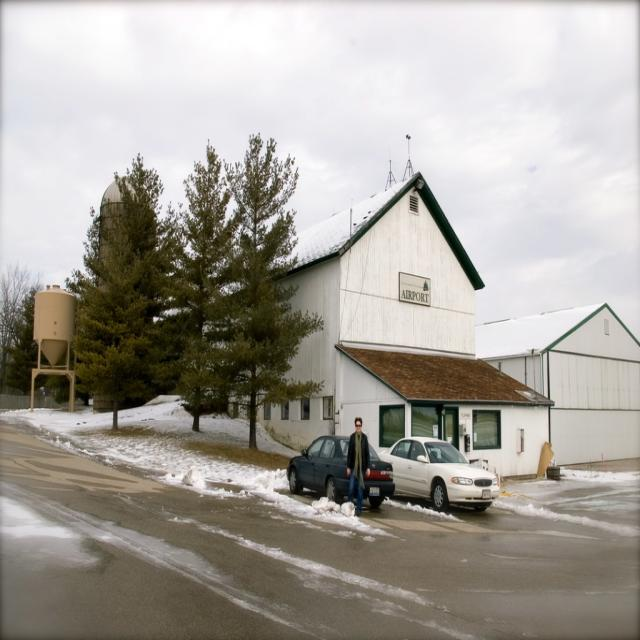car: (376, 433, 498, 510)
